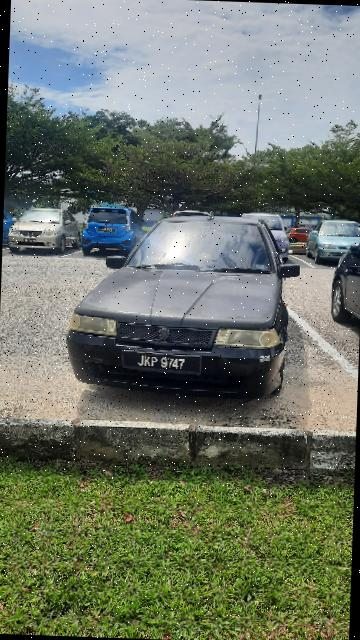License_Plate: (123, 350, 206, 382)
car: (61, 208, 300, 406)
